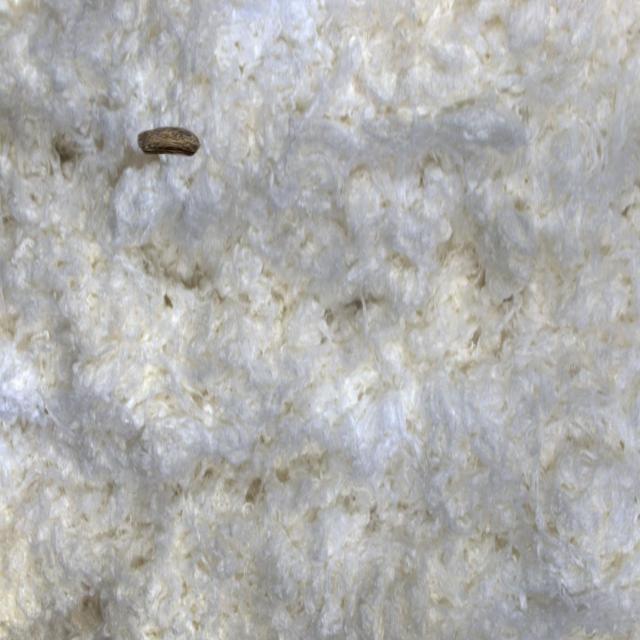dust: (112, 76, 221, 219)
